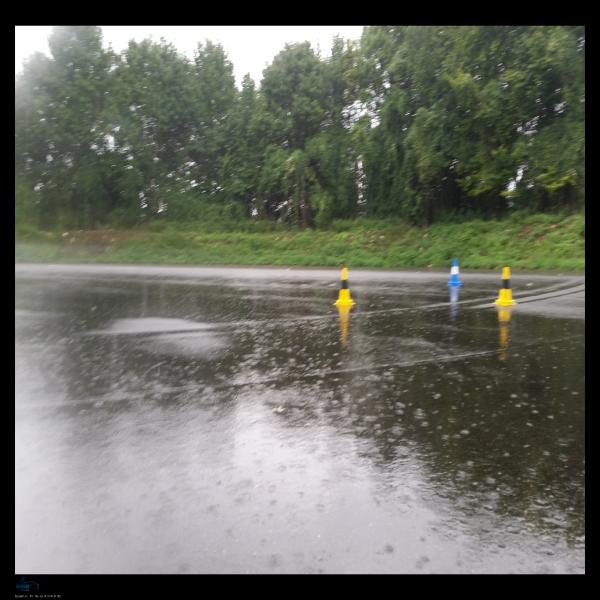blue_cone: (447, 258, 462, 286)
yellow_cone: (493, 267, 517, 305), (333, 268, 356, 306)
